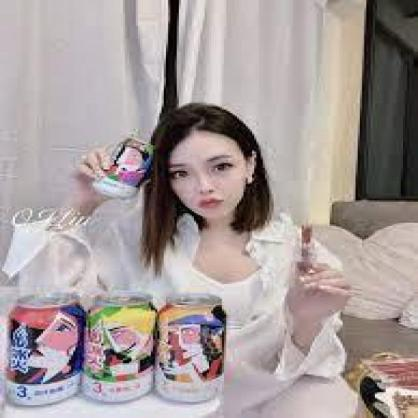can: (8, 293, 83, 406), (155, 287, 226, 403), (83, 290, 152, 402)
